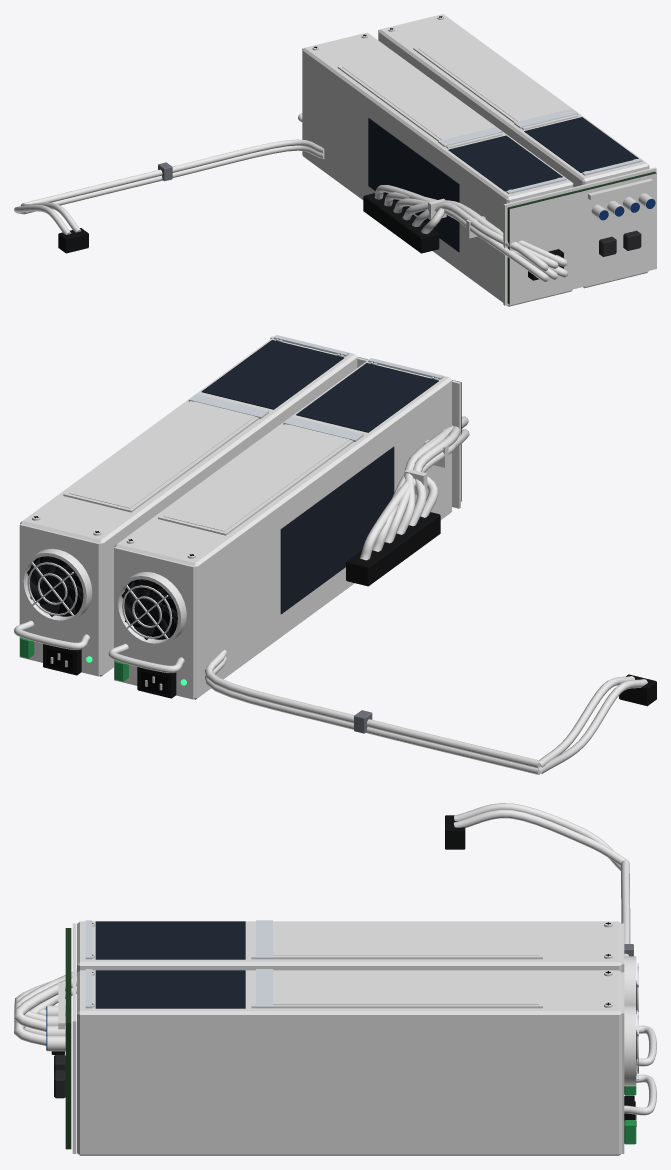
The model's file is hwm_psu_1400w_red.glb.
3 views of the same model, one above another, from view 1: azimuth 30°, elevation 25°; view 2: azimuth 150°, elevation 25°; view 3: azimuth 270°, elevation 25° (orthographic). The views are drawn at different scales.
Visible parts, largest first — view 1: Body, Cable_ATX24, Cable_EPS_Run, Cable_EPS_Plug; view 2: Body, Cable_ATX24, Cable_EPS_Run, Cable_EPS_Plug; view 3: Body, Cable_EPS_Plug, Cable_ATX24, Cable_EPS_Run.
Boxes of the visible parts, bbox=[...] form: Body: bbox=[298, 14, 656, 306]; Cable_ATX24: bbox=[363, 185, 568, 281]; Cable_EPS_Run: bbox=[23, 139, 324, 214]; Cable_EPS_Plug: bbox=[14, 202, 88, 253]; Body: bbox=[14, 335, 461, 699]; Cable_ATX24: bbox=[346, 416, 469, 586]; Cable_EPS_Run: bbox=[204, 650, 540, 774]; Cable_EPS_Plug: bbox=[538, 674, 656, 773]; Body: bbox=[46, 920, 656, 1155]; Cable_EPS_Plug: bbox=[445, 803, 627, 870]; Cable_ATX24: bbox=[14, 970, 76, 1054]; Cable_EPS_Run: bbox=[621, 859, 633, 956].
Bounding box in the file's own units: 0.4035 × 0.0958 × 0.3776.
